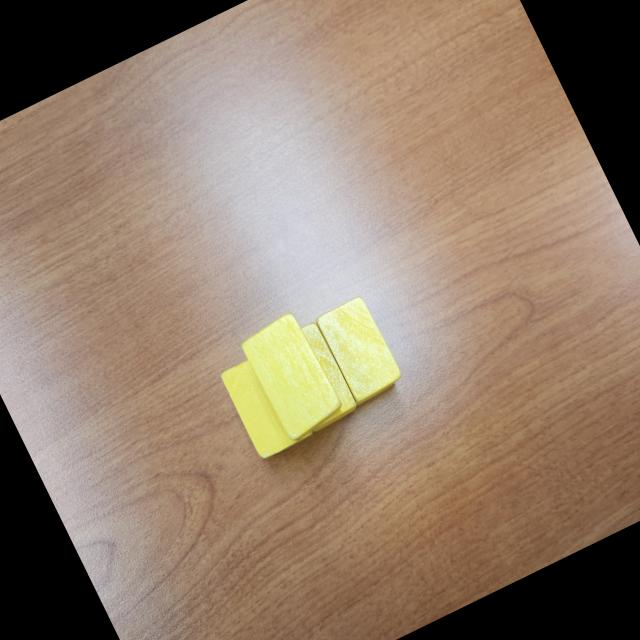yellow: (237, 310, 348, 445), (217, 346, 315, 462), (268, 320, 362, 438), (312, 292, 406, 408)
